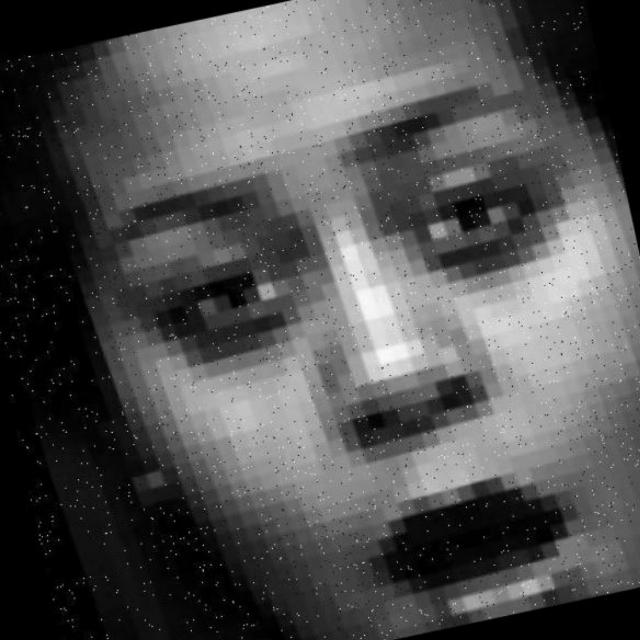Surprised: (26, 77, 640, 640)
